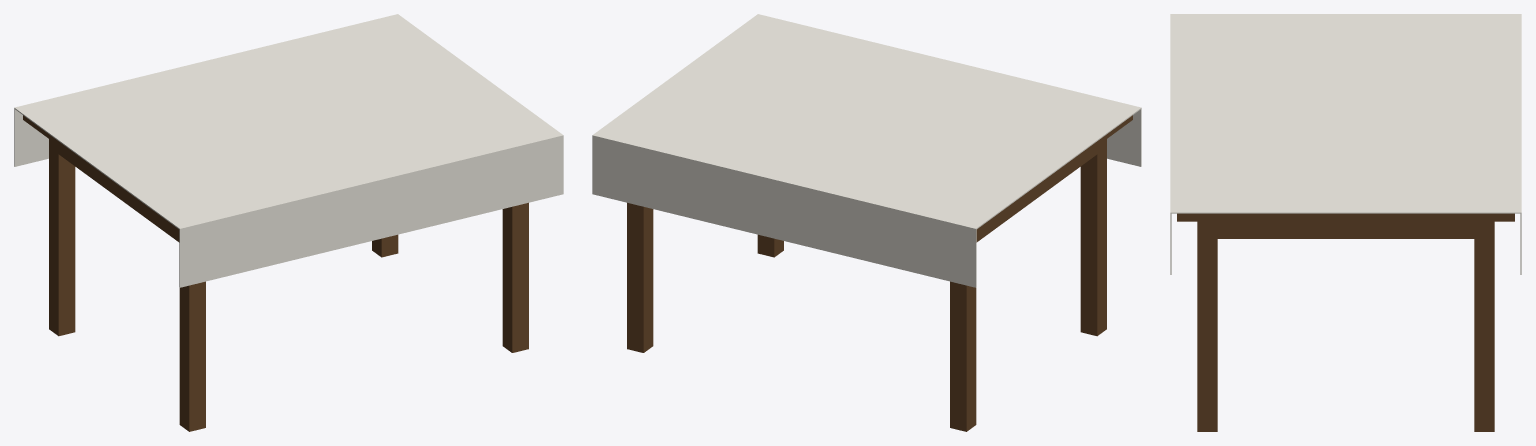
The picture shows the model from 3 angles, left to right: view 1: azimuth 30°, elevation 25°; view 2: azimuth 150°, elevation 25°; view 3: azimuth 270°, elevation 25°; orthographic projection. The views are drawn at different scales.
Parts seen in each view (by area): view 1: parametric-variant-table-1st-pub-b1a5288e9551840caa37; view 2: parametric-variant-table-1st-pub-b1a5288e9551840caa37; view 3: parametric-variant-table-1st-pub-b1a5288e9551840caa37.
Boxes of the visible parts, box(x1,y1,x2,y2) form: parametric-variant-table-1st-pub-b1a5288e9551840caa37: box(14, 14, 563, 431); parametric-variant-table-1st-pub-b1a5288e9551840caa37: box(592, 14, 1141, 431); parametric-variant-table-1st-pub-b1a5288e9551840caa37: box(1170, 14, 1521, 431).
Bounding box in the file's own units: 1.39 × 0.754 × 1.04.
